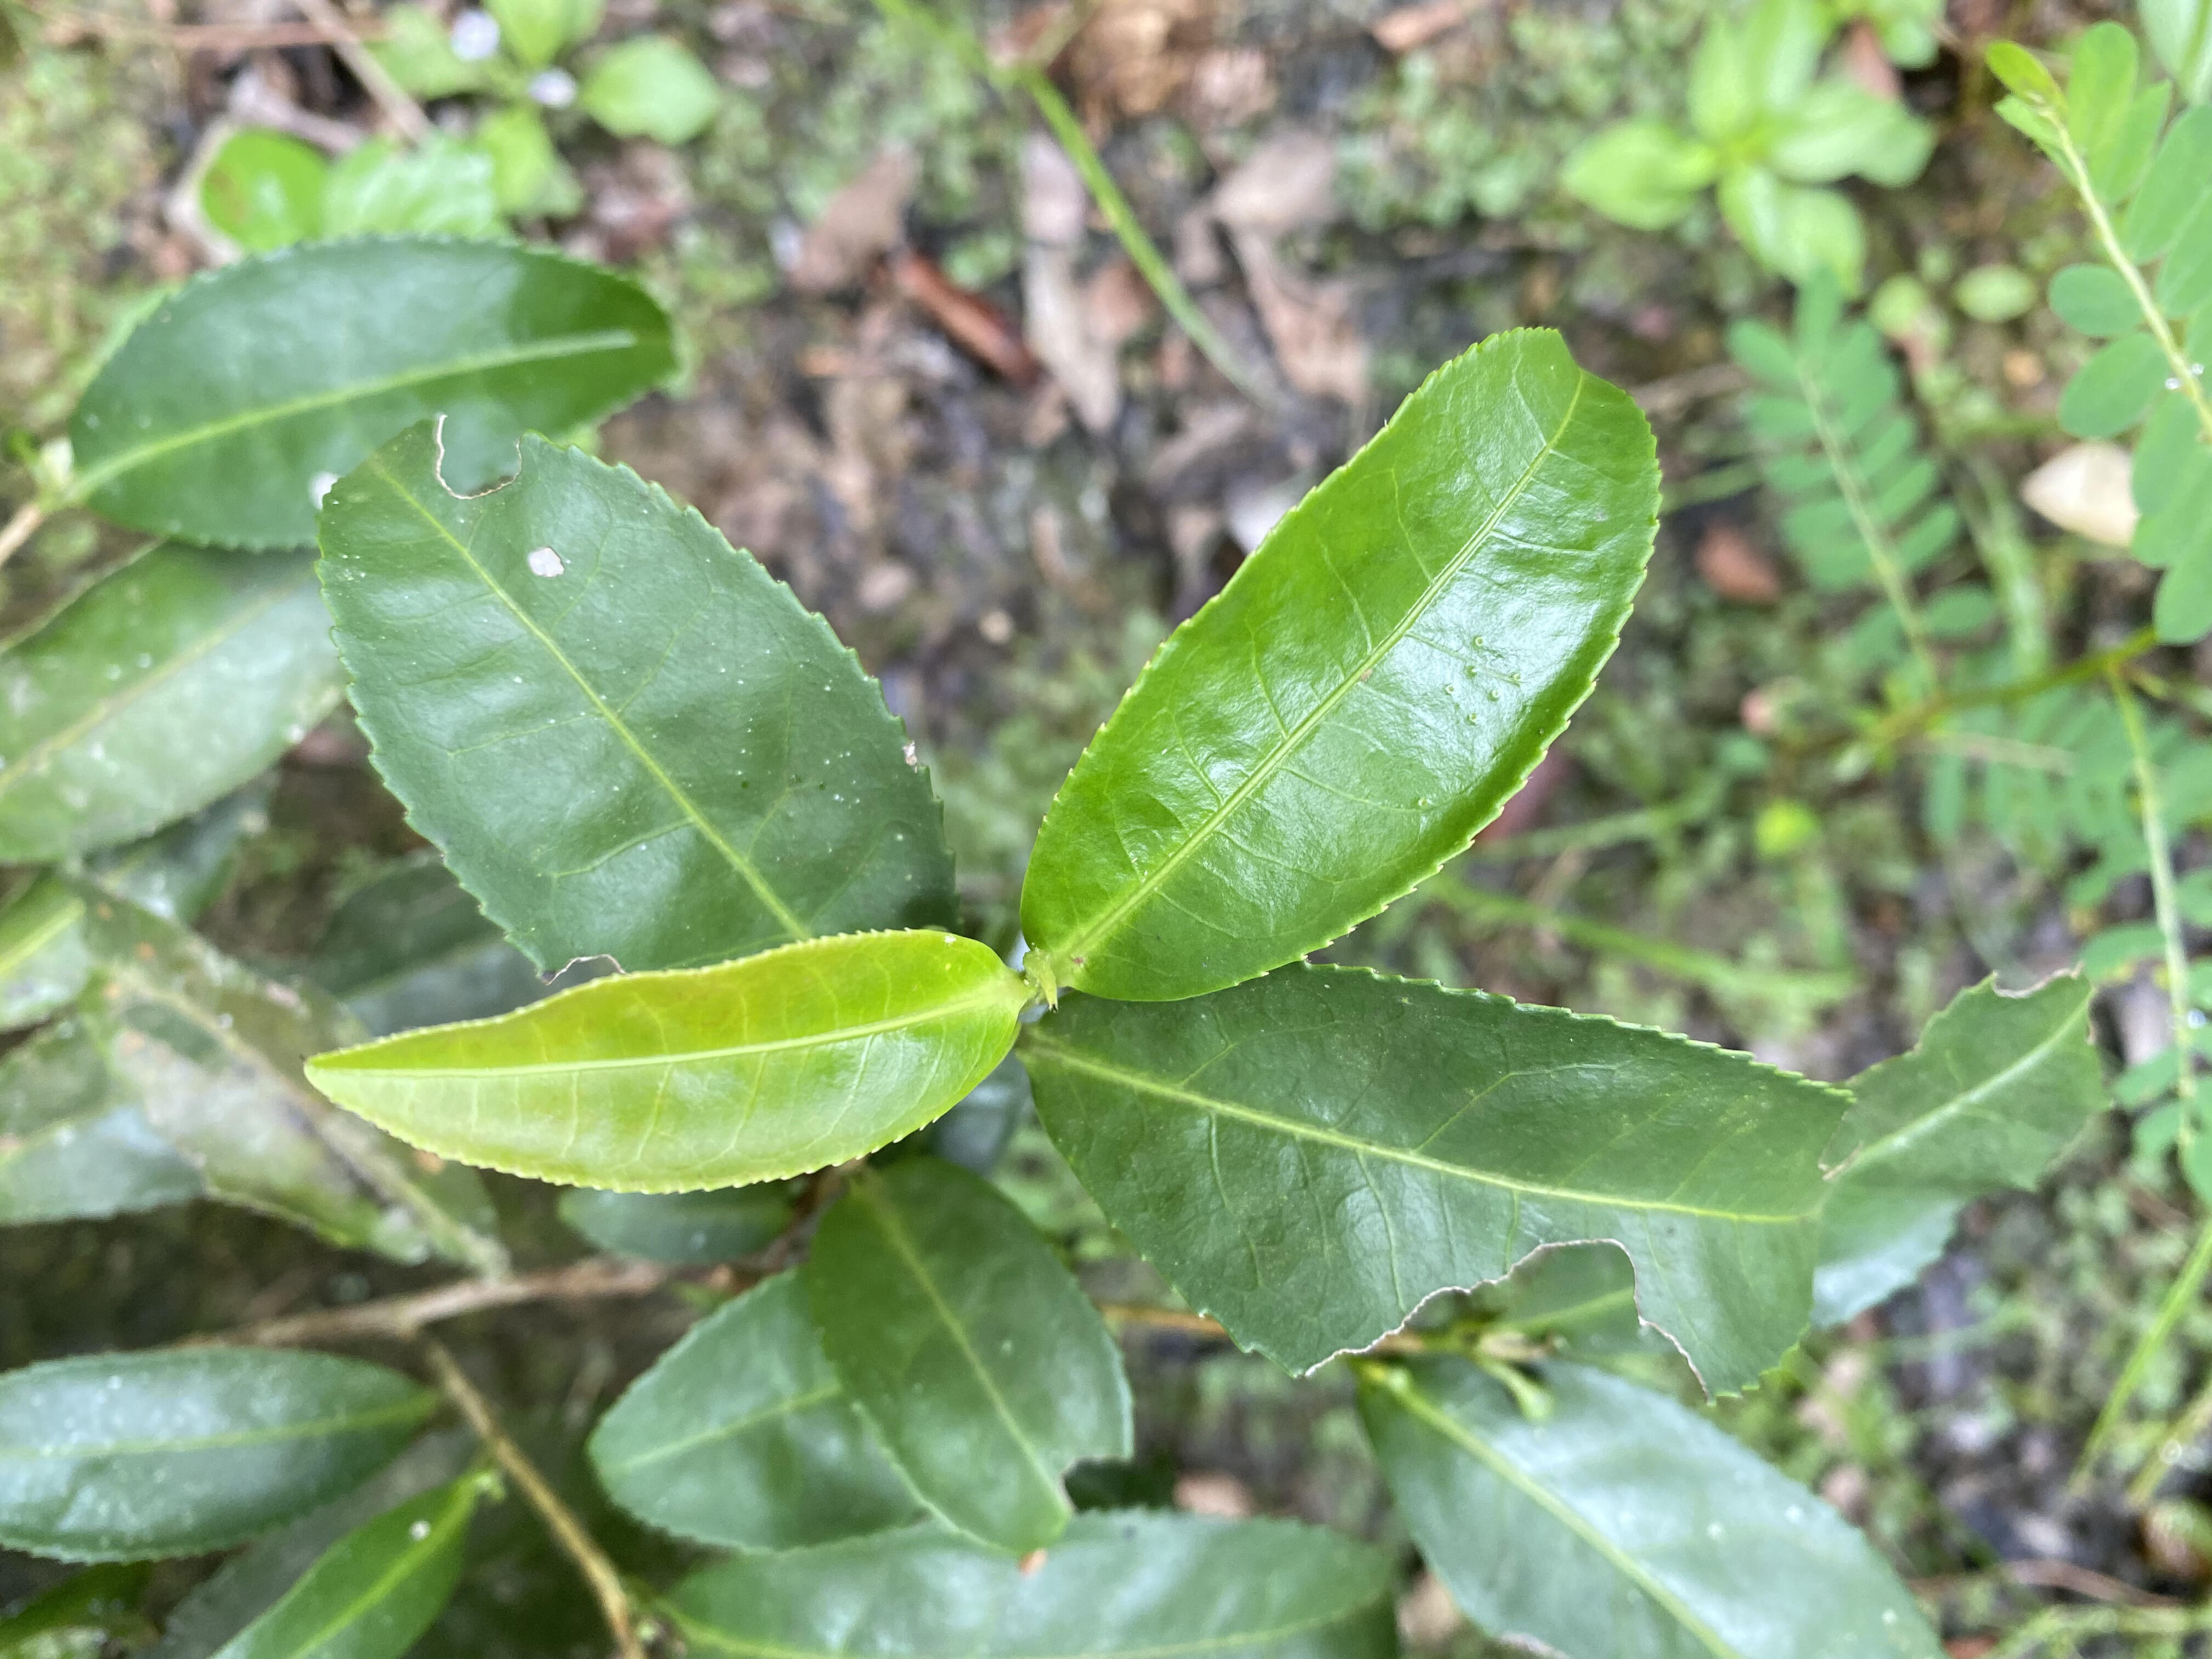chihuo_high: (1026, 957, 1860, 1406), (322, 413, 968, 986), (1836, 962, 2107, 1333)
chihuo_low: (820, 1164, 1134, 1556)
healthy: (1031, 324, 1665, 995), (303, 927, 1021, 1199)
